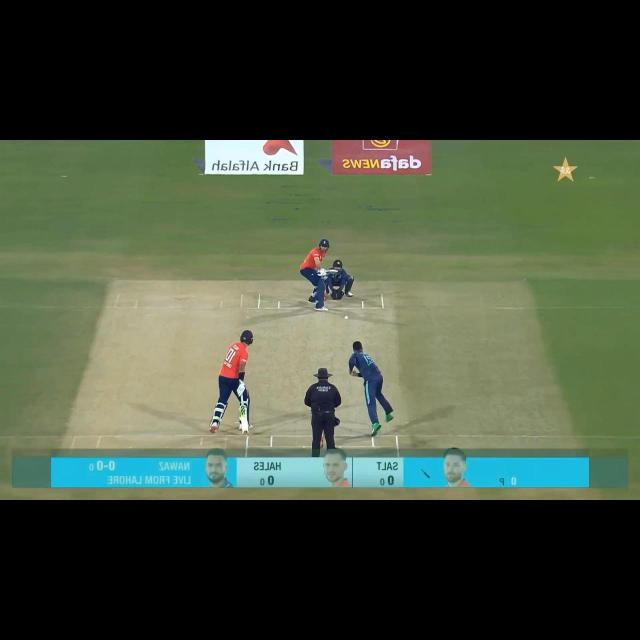bat: (239, 406, 250, 435), (325, 269, 338, 274)
toe: (242, 430, 248, 436), (335, 269, 339, 273)
